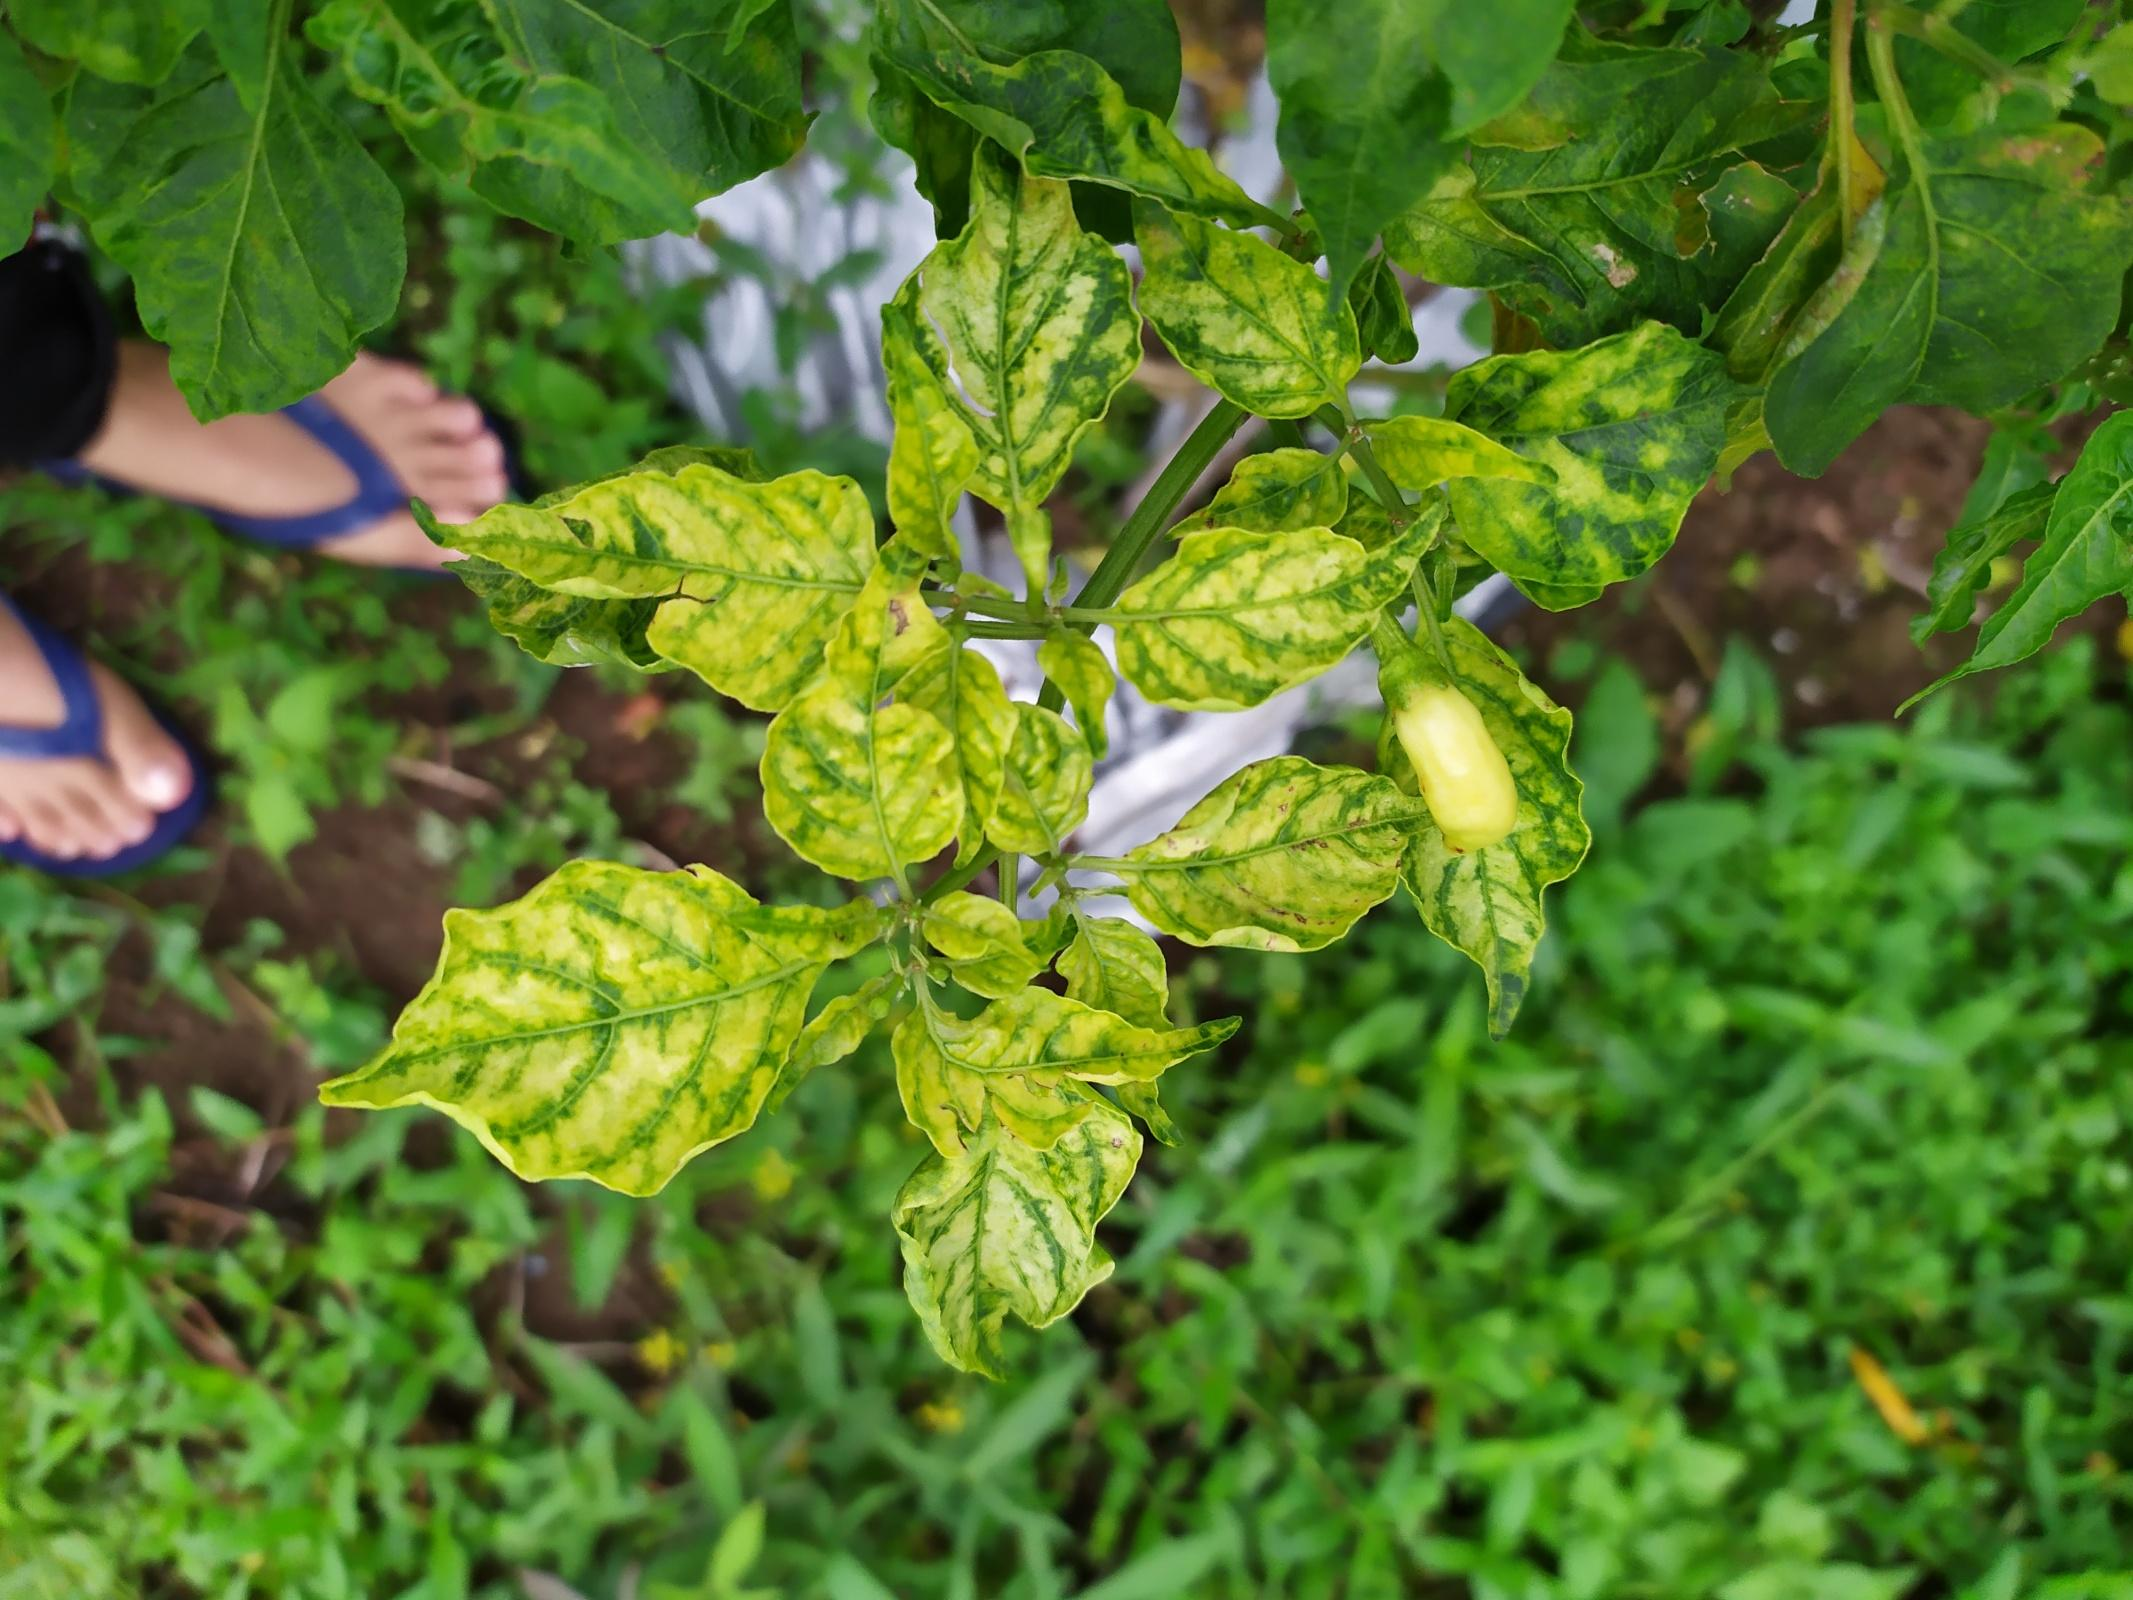cabai_normal: (1392, 679, 1523, 854)
